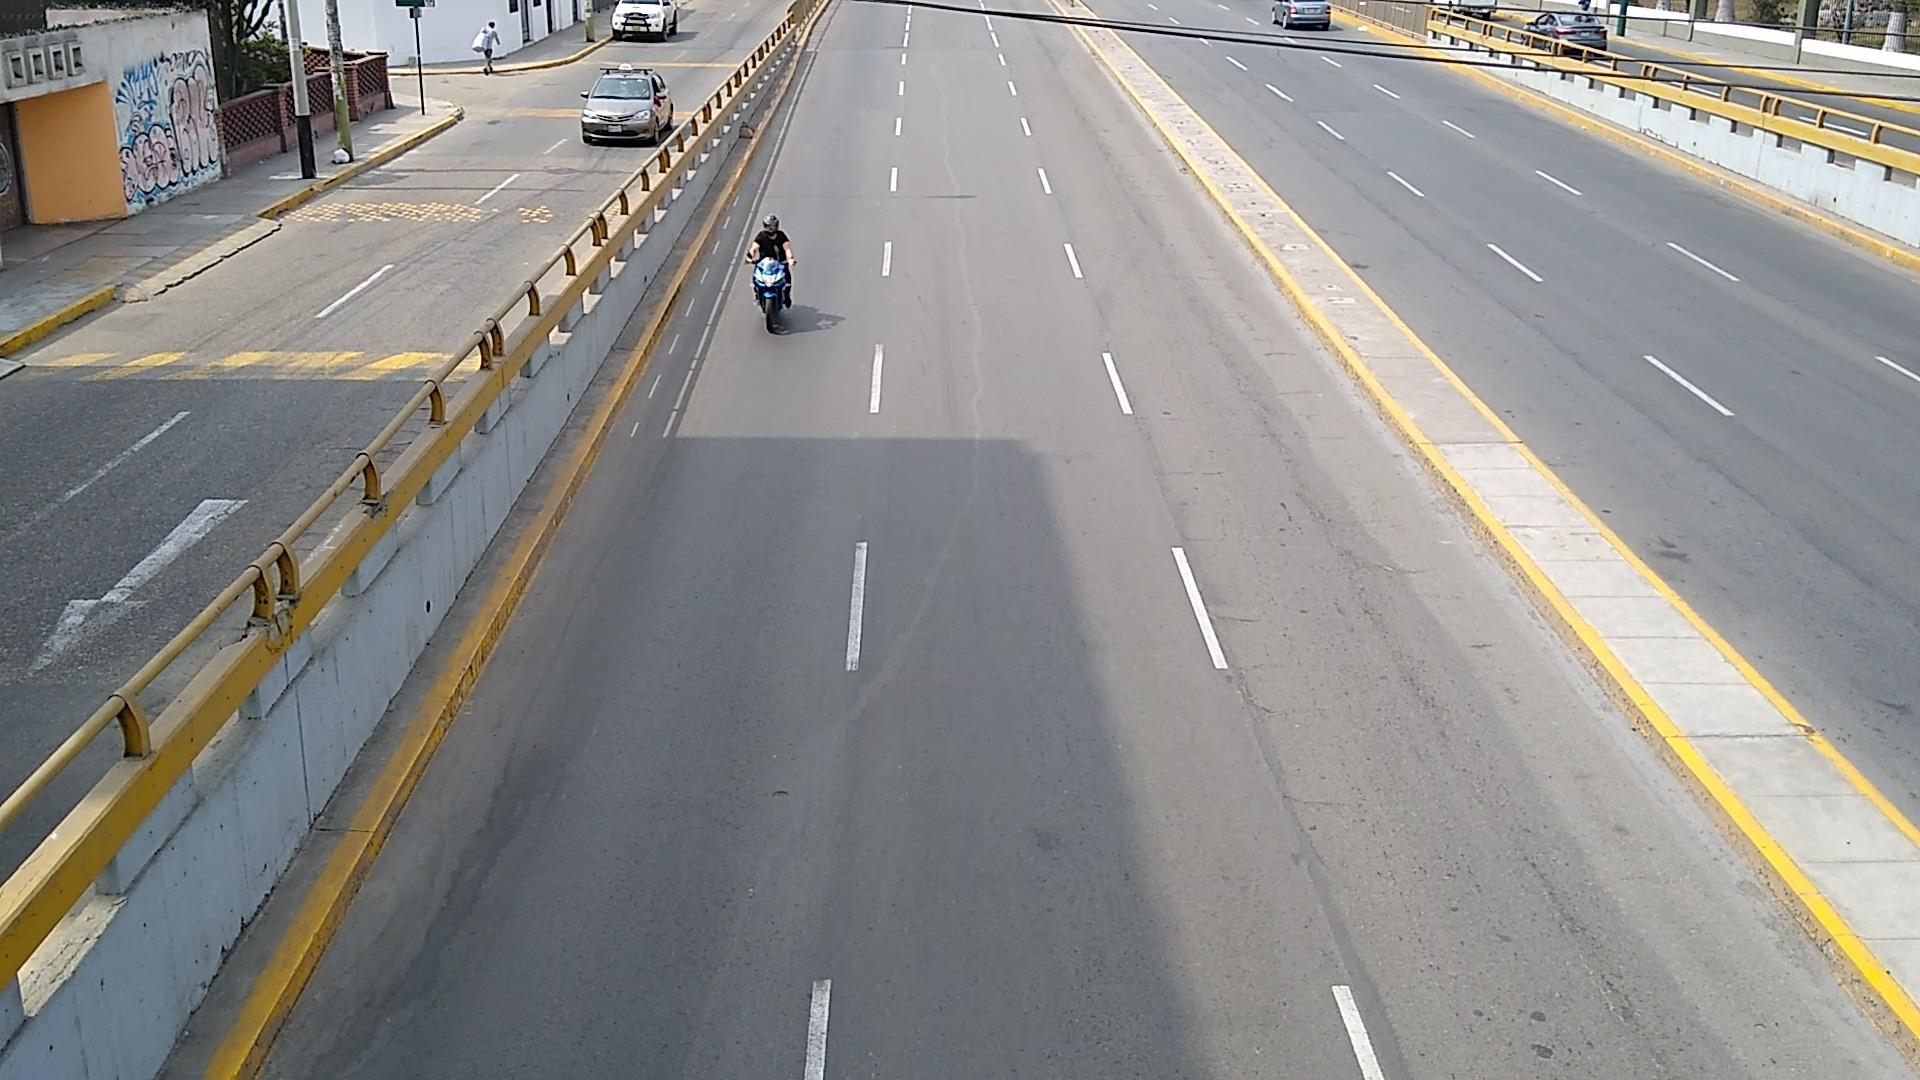car: (581, 68, 675, 146)
motorcycle: (754, 255, 791, 334)
pedestrian: (472, 19, 499, 73)
